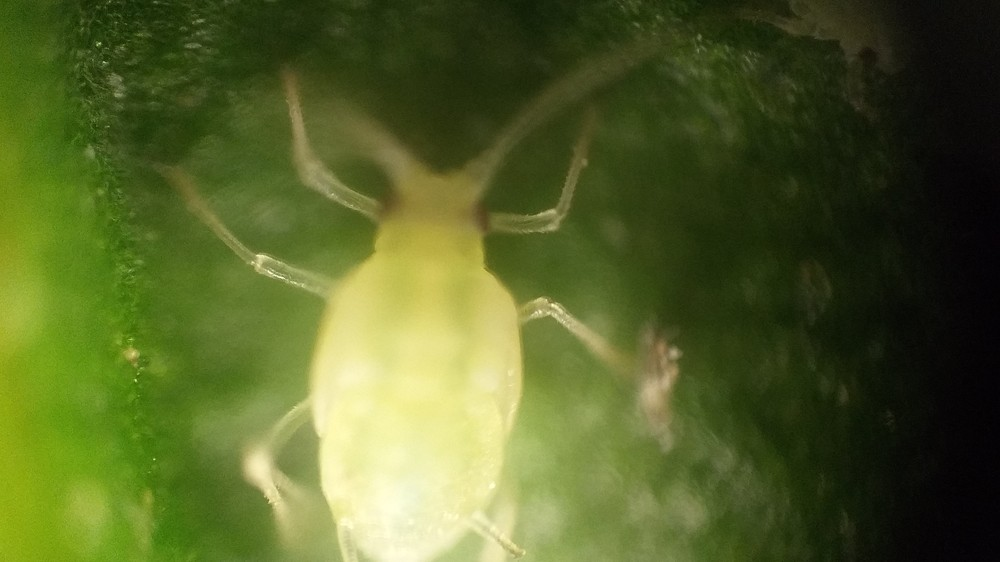Pulgon: (196, 72, 664, 562)
